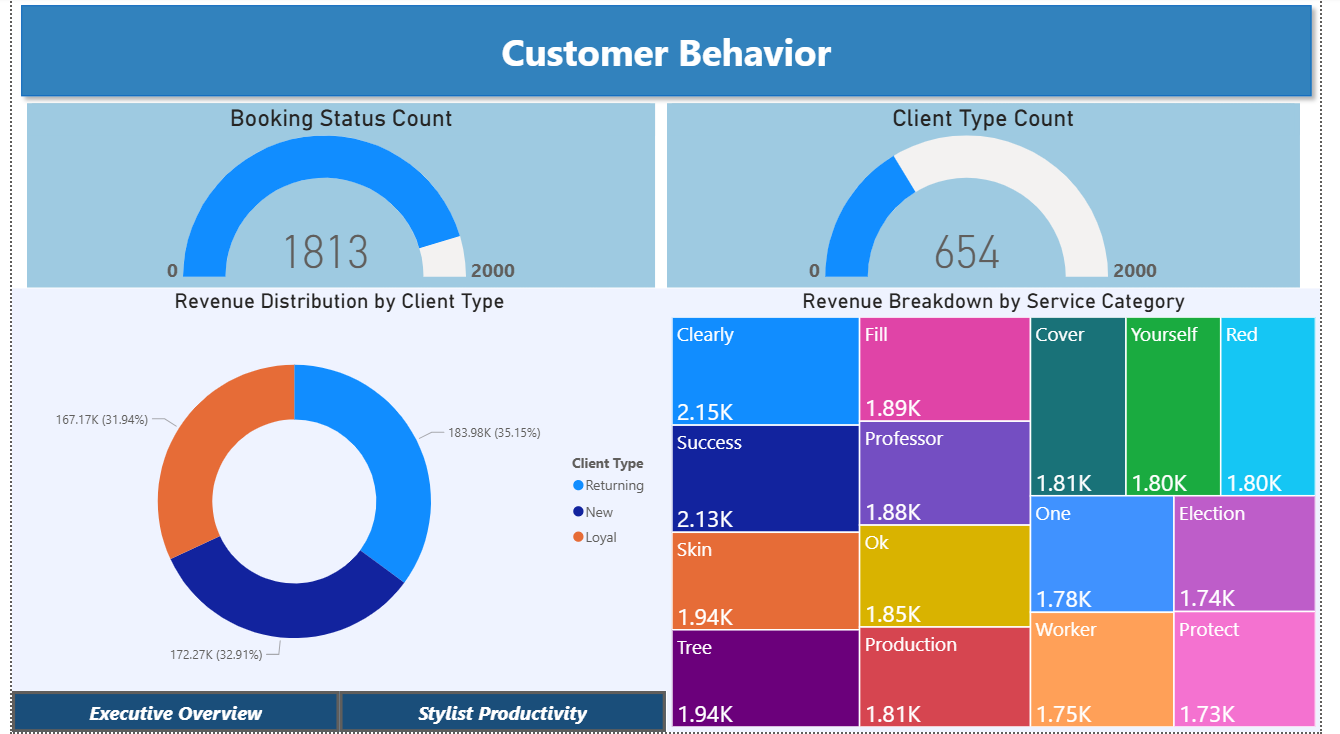

The dashboard page shown, as its layout file describes it:
{"tool":"powerbi","page":{"name":"Customer Behavior","canvas":[1280,720],"ordinal":2},"visuals":[{"type":"gauge","fields":{"Y":["CountNonNull(Sheet1.Booking Status)"]},"box":[15.1,105.7,614.8,179.8],"z":0},{"type":"gauge","fields":{"Y":["CountNonNull(Sheet1.Client Type)"]},"box":[640.8,105.7,618.9,179.8],"z":1000},{"type":"treemap","title":"Revenue Breakdown by Service Category","fields":{"Group":["Sheet1.Service Type"],"Values":["Sum(Sheet1.Revenue)"]},"box":[640.8,286.1,639.5,434.1],"z":2000},{"type":"donutChart","title":"Revenue Distribution by Client Type","fields":{"Category":["Sheet1.Client Type"],"Y":["Sum(Sheet1.Revenue)"]},"box":[0,286.1,640.8,393.8],"z":3000},{"type":"actionButton","box":[0,679.9,320.4,40.4],"z":4000},{"type":"actionButton","box":[320.4,679.9,319.2,40.4],"z":5000},{"type":"shape","box":[0,0,1280.3,107],"z":6000}]}

Visuals, with their boxes in screenshot pixels (x1, y1, x2, y2), scaled from the page's 1280x720 canvas onto the 1340x734 screenshot:
gauge - CountNonNull(Sheet1.Booking Status): bbox=(16, 108, 659, 291)
gauge - CountNonNull(Sheet1.Client Type): bbox=(671, 108, 1319, 291)
"Revenue Breakdown by Service Category" treemap: bbox=(671, 292, 1339, 733)
"Revenue Distribution by Client Type" donutChart: bbox=(0, 292, 671, 693)
actionButton: bbox=(0, 693, 335, 733)
actionButton: bbox=(335, 693, 670, 733)
shape: bbox=(0, 0, 1339, 109)
